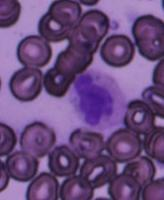N: (67, 66, 128, 131)
